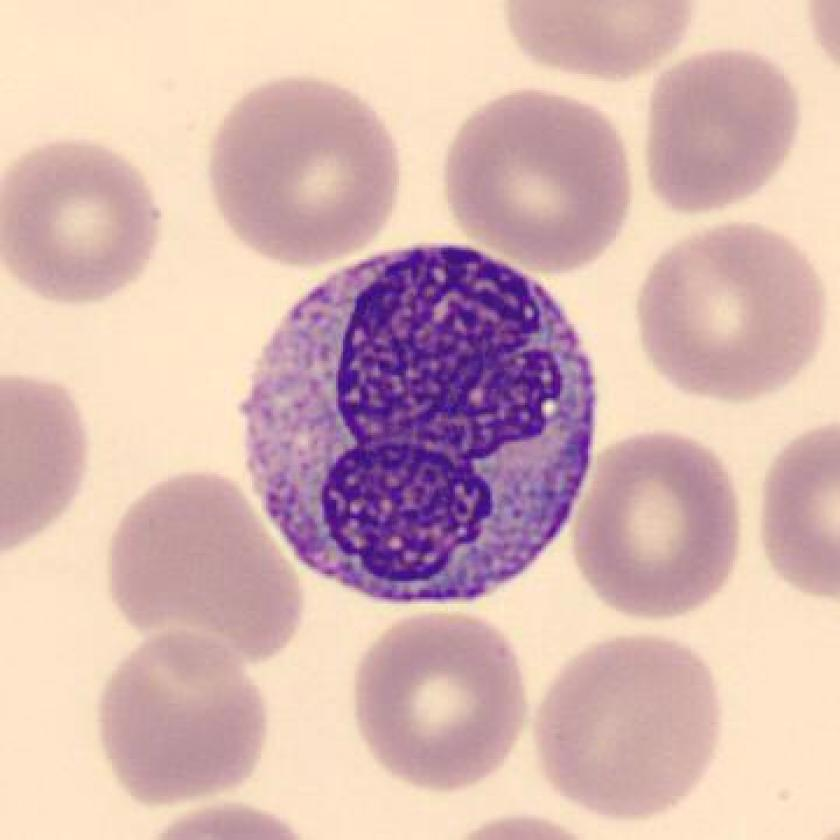monocyte: (223, 221, 617, 626)
